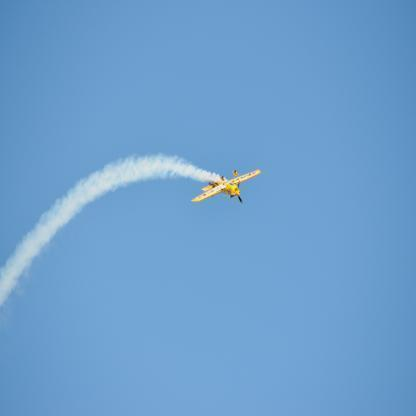aircraft: (191, 168, 262, 203)
